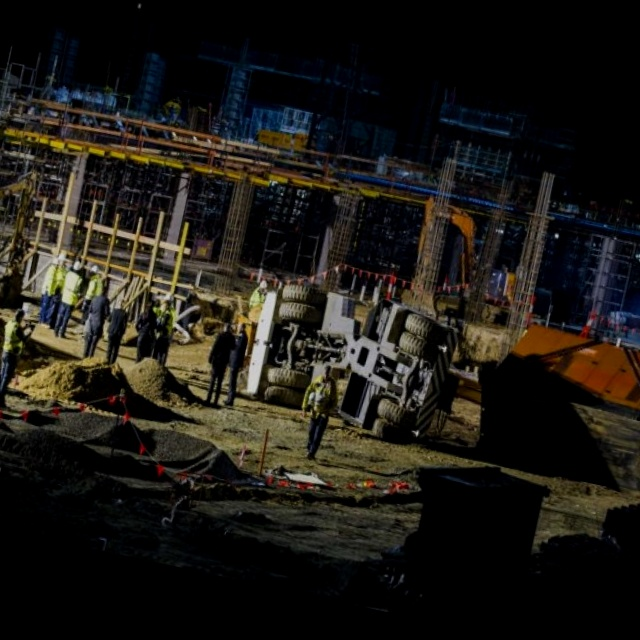Con_Chaleco: (0, 318, 27, 354), (59, 269, 84, 307)
